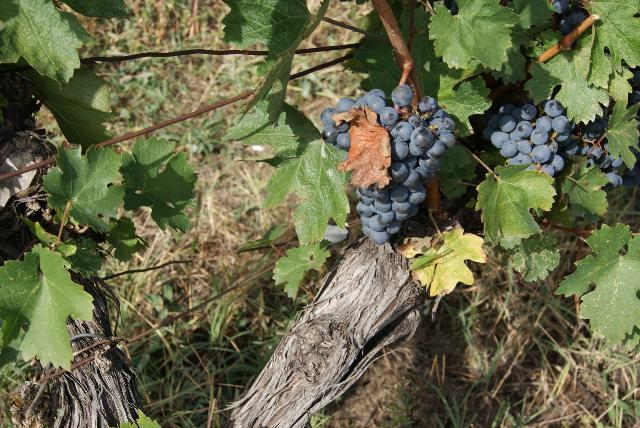grapes: (322, 84, 456, 244)
